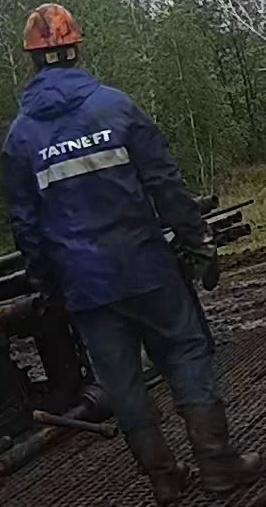gloves: (173, 213, 221, 293)
helmet: (21, 1, 85, 65)
vest: (2, 60, 162, 311)
